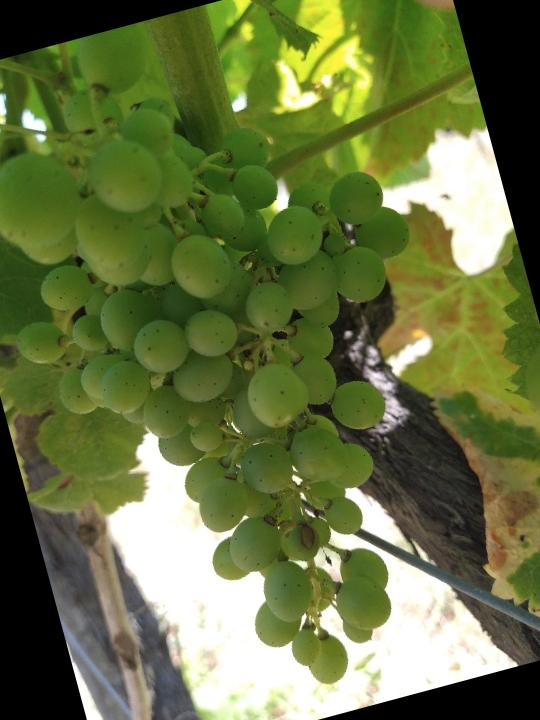grape: (0, 0, 521, 720)
